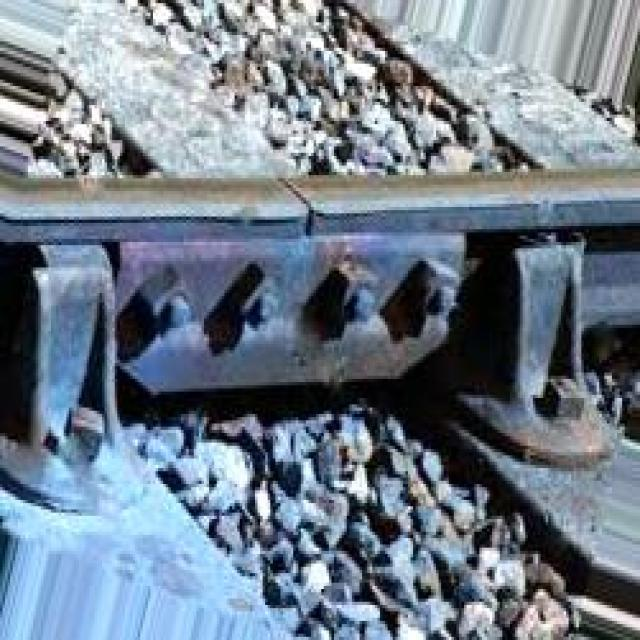Good Joint: (33, 246, 640, 488)
